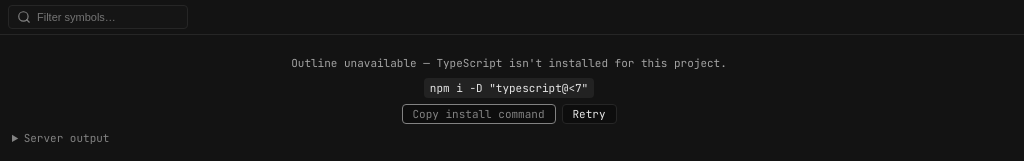
OutlinePanel › language server failed (503 LSP_SERVER_FAILED) › Retry restarts the server and re-fetches the outline
expect the text "Outline unavailable — TypeScript isn't installed for this project." is shown: met, box [291,55,727,72]
Click the button "Retry".
click(589, 114)  # box [562,104,616,124]
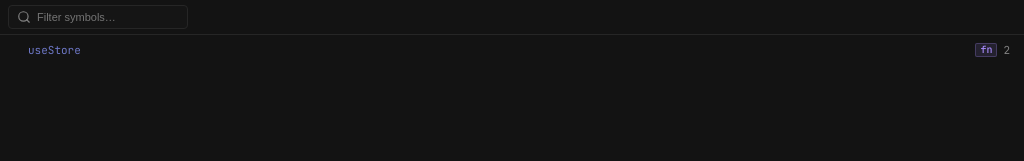
expect the text "useStore" is shown: met, box [28,43,81,57]
